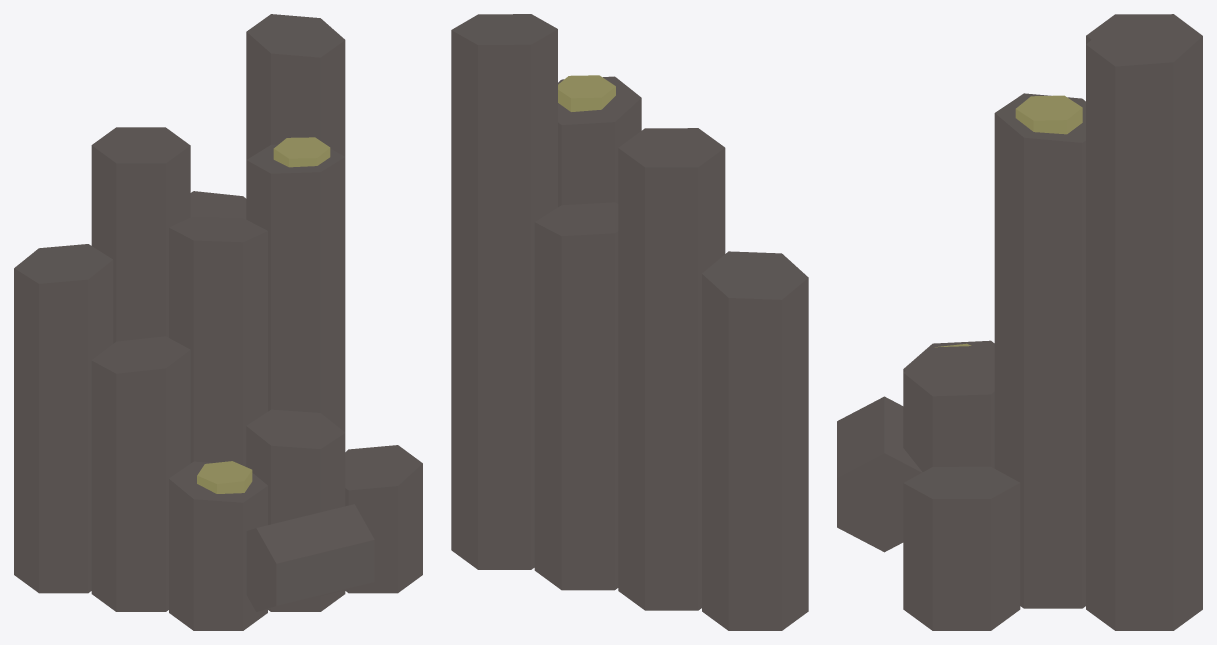
The model's file is Blender_BasaltBoulder_1.glb.
The picture shows the model from 3 angles, left to right: view 1: azimuth 30°, elevation 25°; view 2: azimuth 150°, elevation 25°; view 3: azimuth 270°, elevation 25°; orthographic projection. The views are drawn at different scales.
Visible parts, largest first — view 1: Blender_BasaltBoulder_1; view 2: Blender_BasaltBoulder_1; view 3: Blender_BasaltBoulder_1.
Part boxes in pixels (x1,y1,x2,y2): Blender_BasaltBoulder_1: (14, 14, 422, 630); Blender_BasaltBoulder_1: (451, 14, 808, 630); Blender_BasaltBoulder_1: (837, 14, 1202, 630).
Size of the model in its own units: 2.06 by 3.12 by 1.8.
